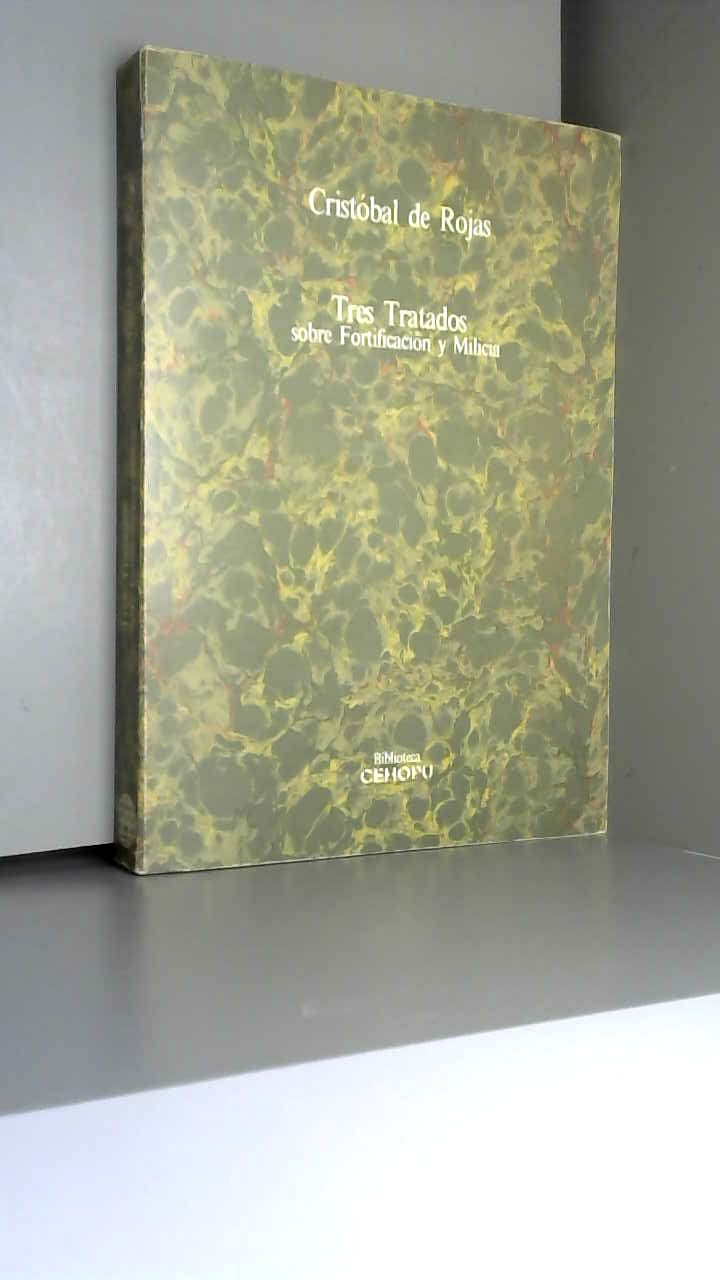book: (90, 10, 720, 896)
